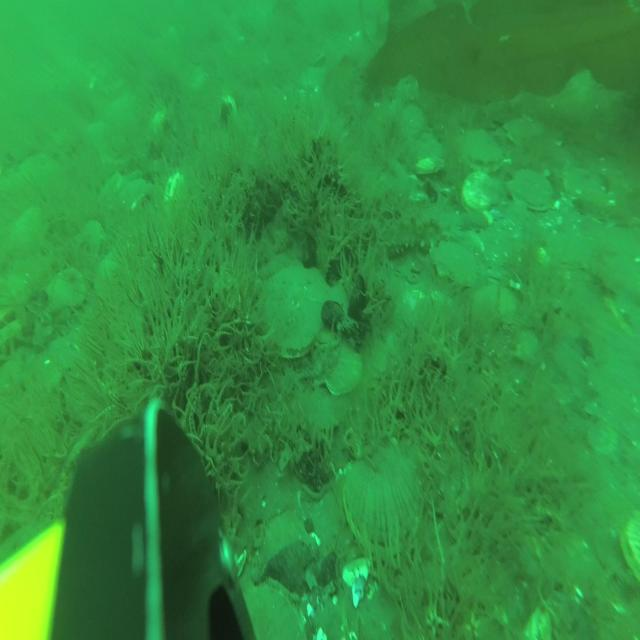holothurian: (380, 214, 443, 259)
scallop: (343, 445, 426, 552), (263, 266, 332, 356), (256, 506, 319, 584), (310, 482, 360, 574), (241, 572, 308, 640), (300, 375, 347, 433), (471, 281, 518, 338), (313, 287, 351, 353), (322, 343, 362, 398), (545, 228, 593, 272), (44, 266, 87, 315), (432, 237, 476, 284), (460, 171, 504, 217), (513, 165, 551, 212), (464, 128, 500, 173), (408, 125, 444, 170), (76, 219, 108, 268), (506, 108, 542, 149), (110, 94, 142, 138), (590, 416, 618, 461), (396, 68, 426, 106), (401, 95, 425, 133), (513, 332, 541, 364)
